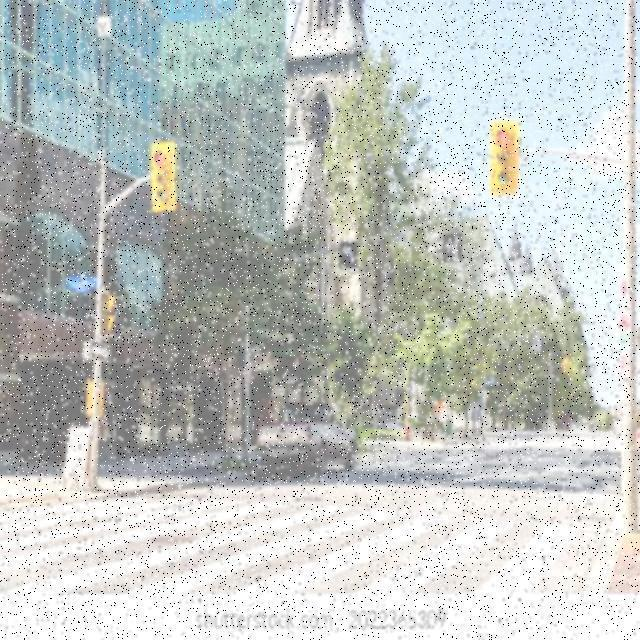crosswalk: (5, 496, 608, 607)
